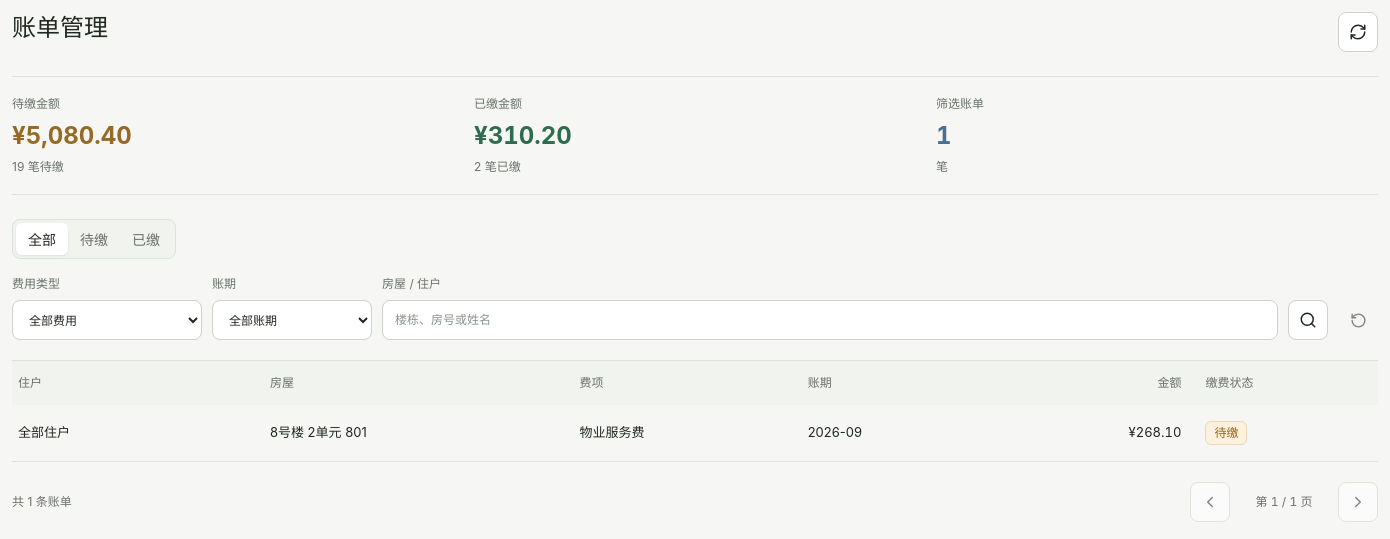
Test: community billing management › combines fee, period and household search and clears all filters
Check: the text "全部住户" is shown, box left=12, top=405, right=258, bottom=462
Select "水费" in the dropdown labelled "费用类型" at [107, 320], box left=12, top=300, right=202, bottom=340
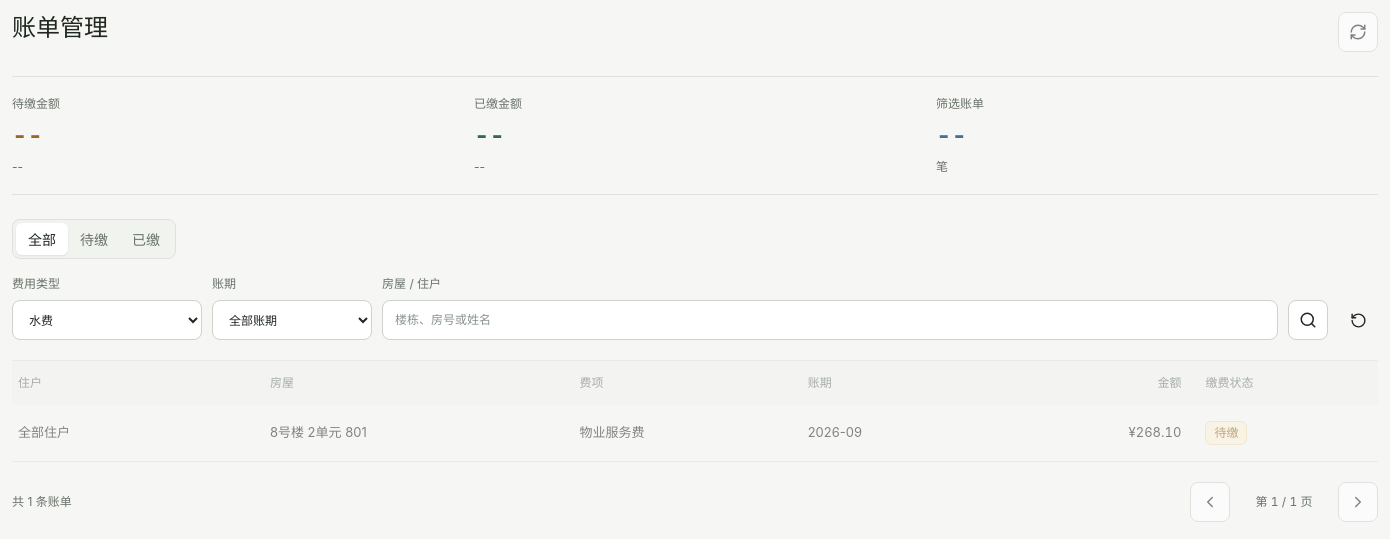
Select "2026-08" in the dropdown labelled "账期" at [292, 320], box left=212, top=300, right=372, bottom=340
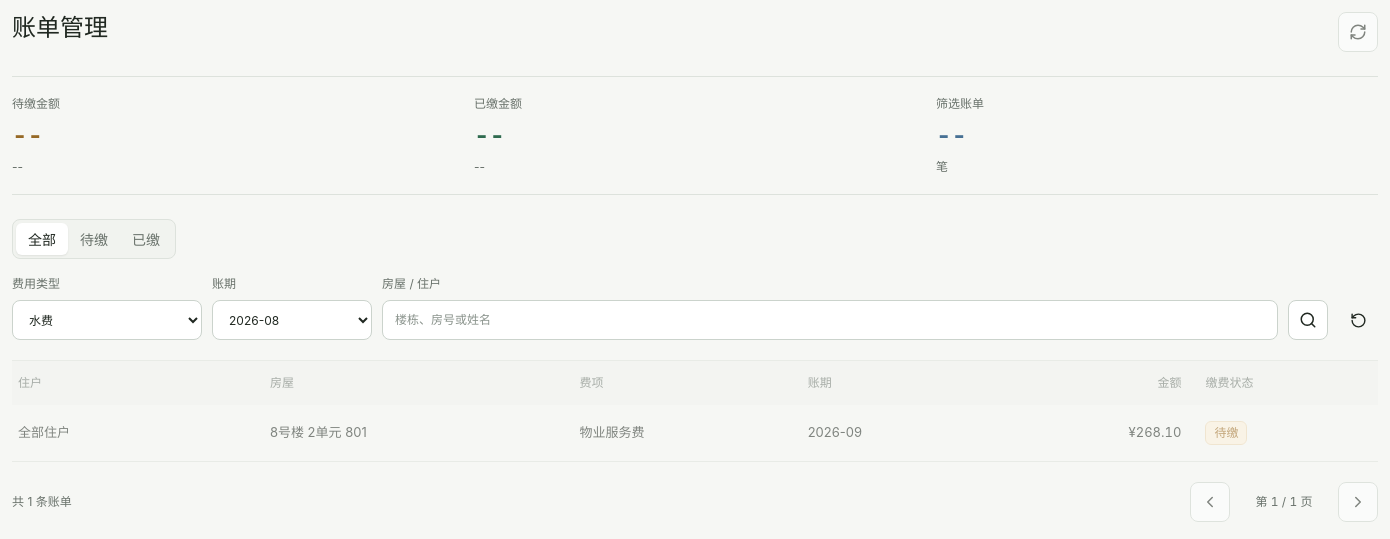
Type " 陈雨 " into the search field named "搜索房屋或住户" at [830, 320], box left=382, top=300, right=1278, bottom=340
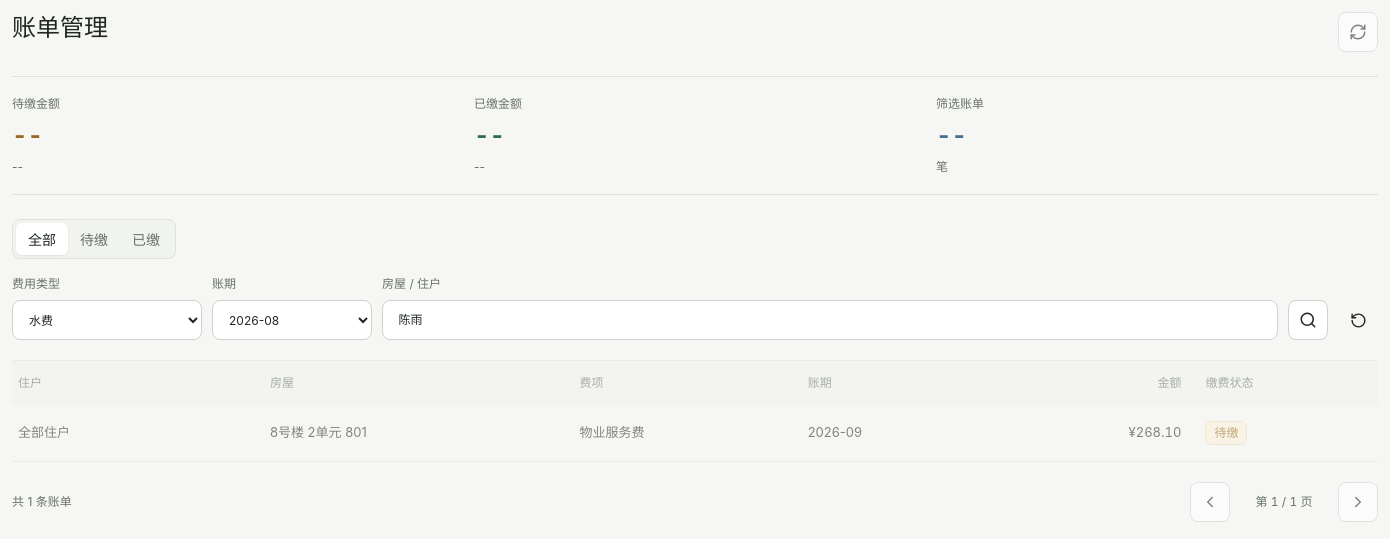
Click the button named "搜索账单" at [1308, 320], box left=1288, top=300, right=1328, bottom=340
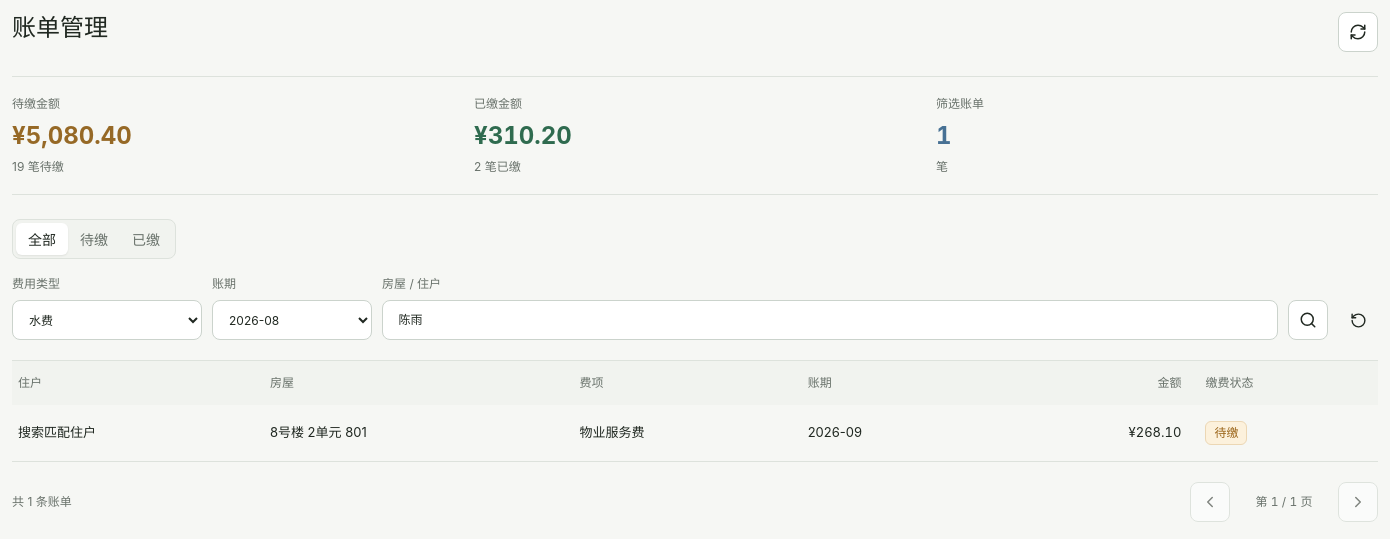
Check: the text "搜索匹配住户" is shown, box left=12, top=405, right=258, bottom=462
Click the button named "重置筛选" at [1358, 320], box left=1338, top=300, right=1378, bottom=340
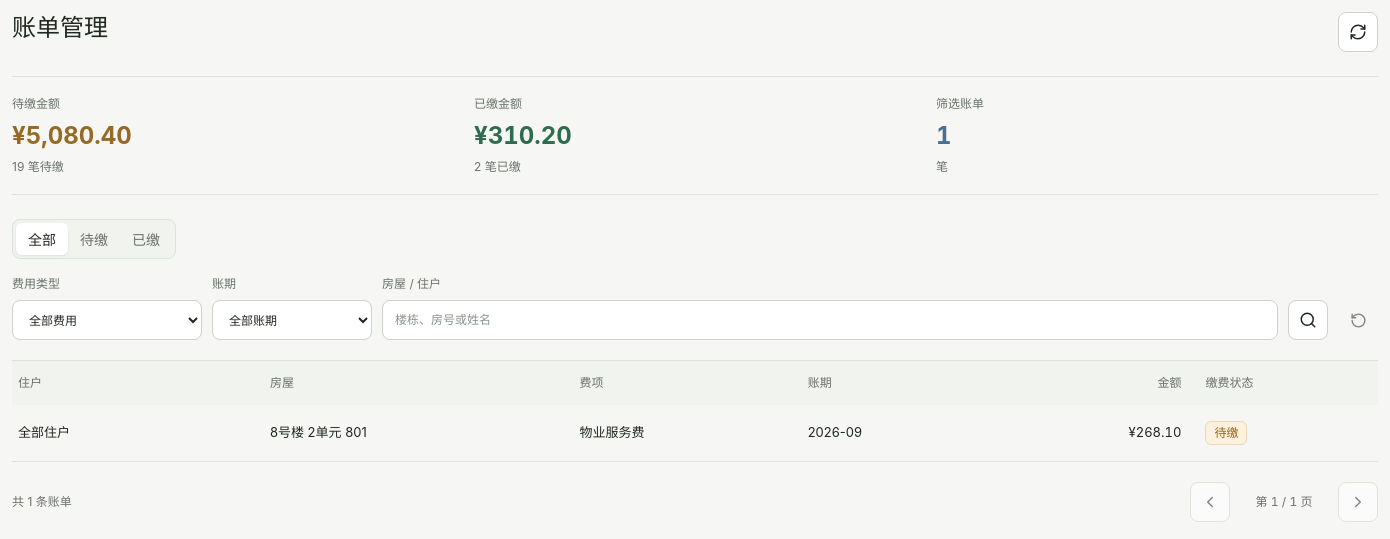
Check: the text "全部住户" is shown, box left=12, top=405, right=258, bottom=462
Check: the search field named "搜索房屋或住户" is empty, box left=382, top=300, right=1278, bottom=340
